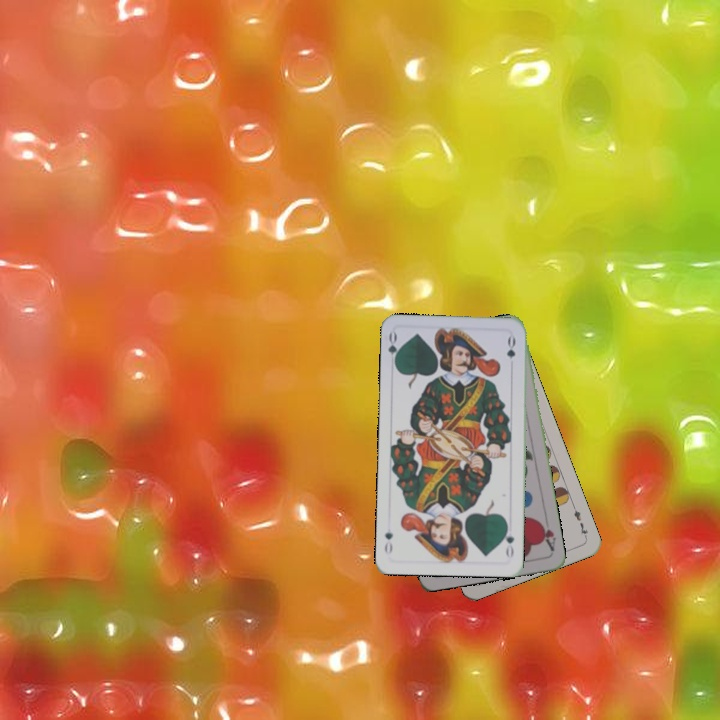E7: (569, 502, 590, 541)
GO: (384, 329, 403, 369), (500, 520, 517, 561)
HA: (535, 514, 558, 555)
